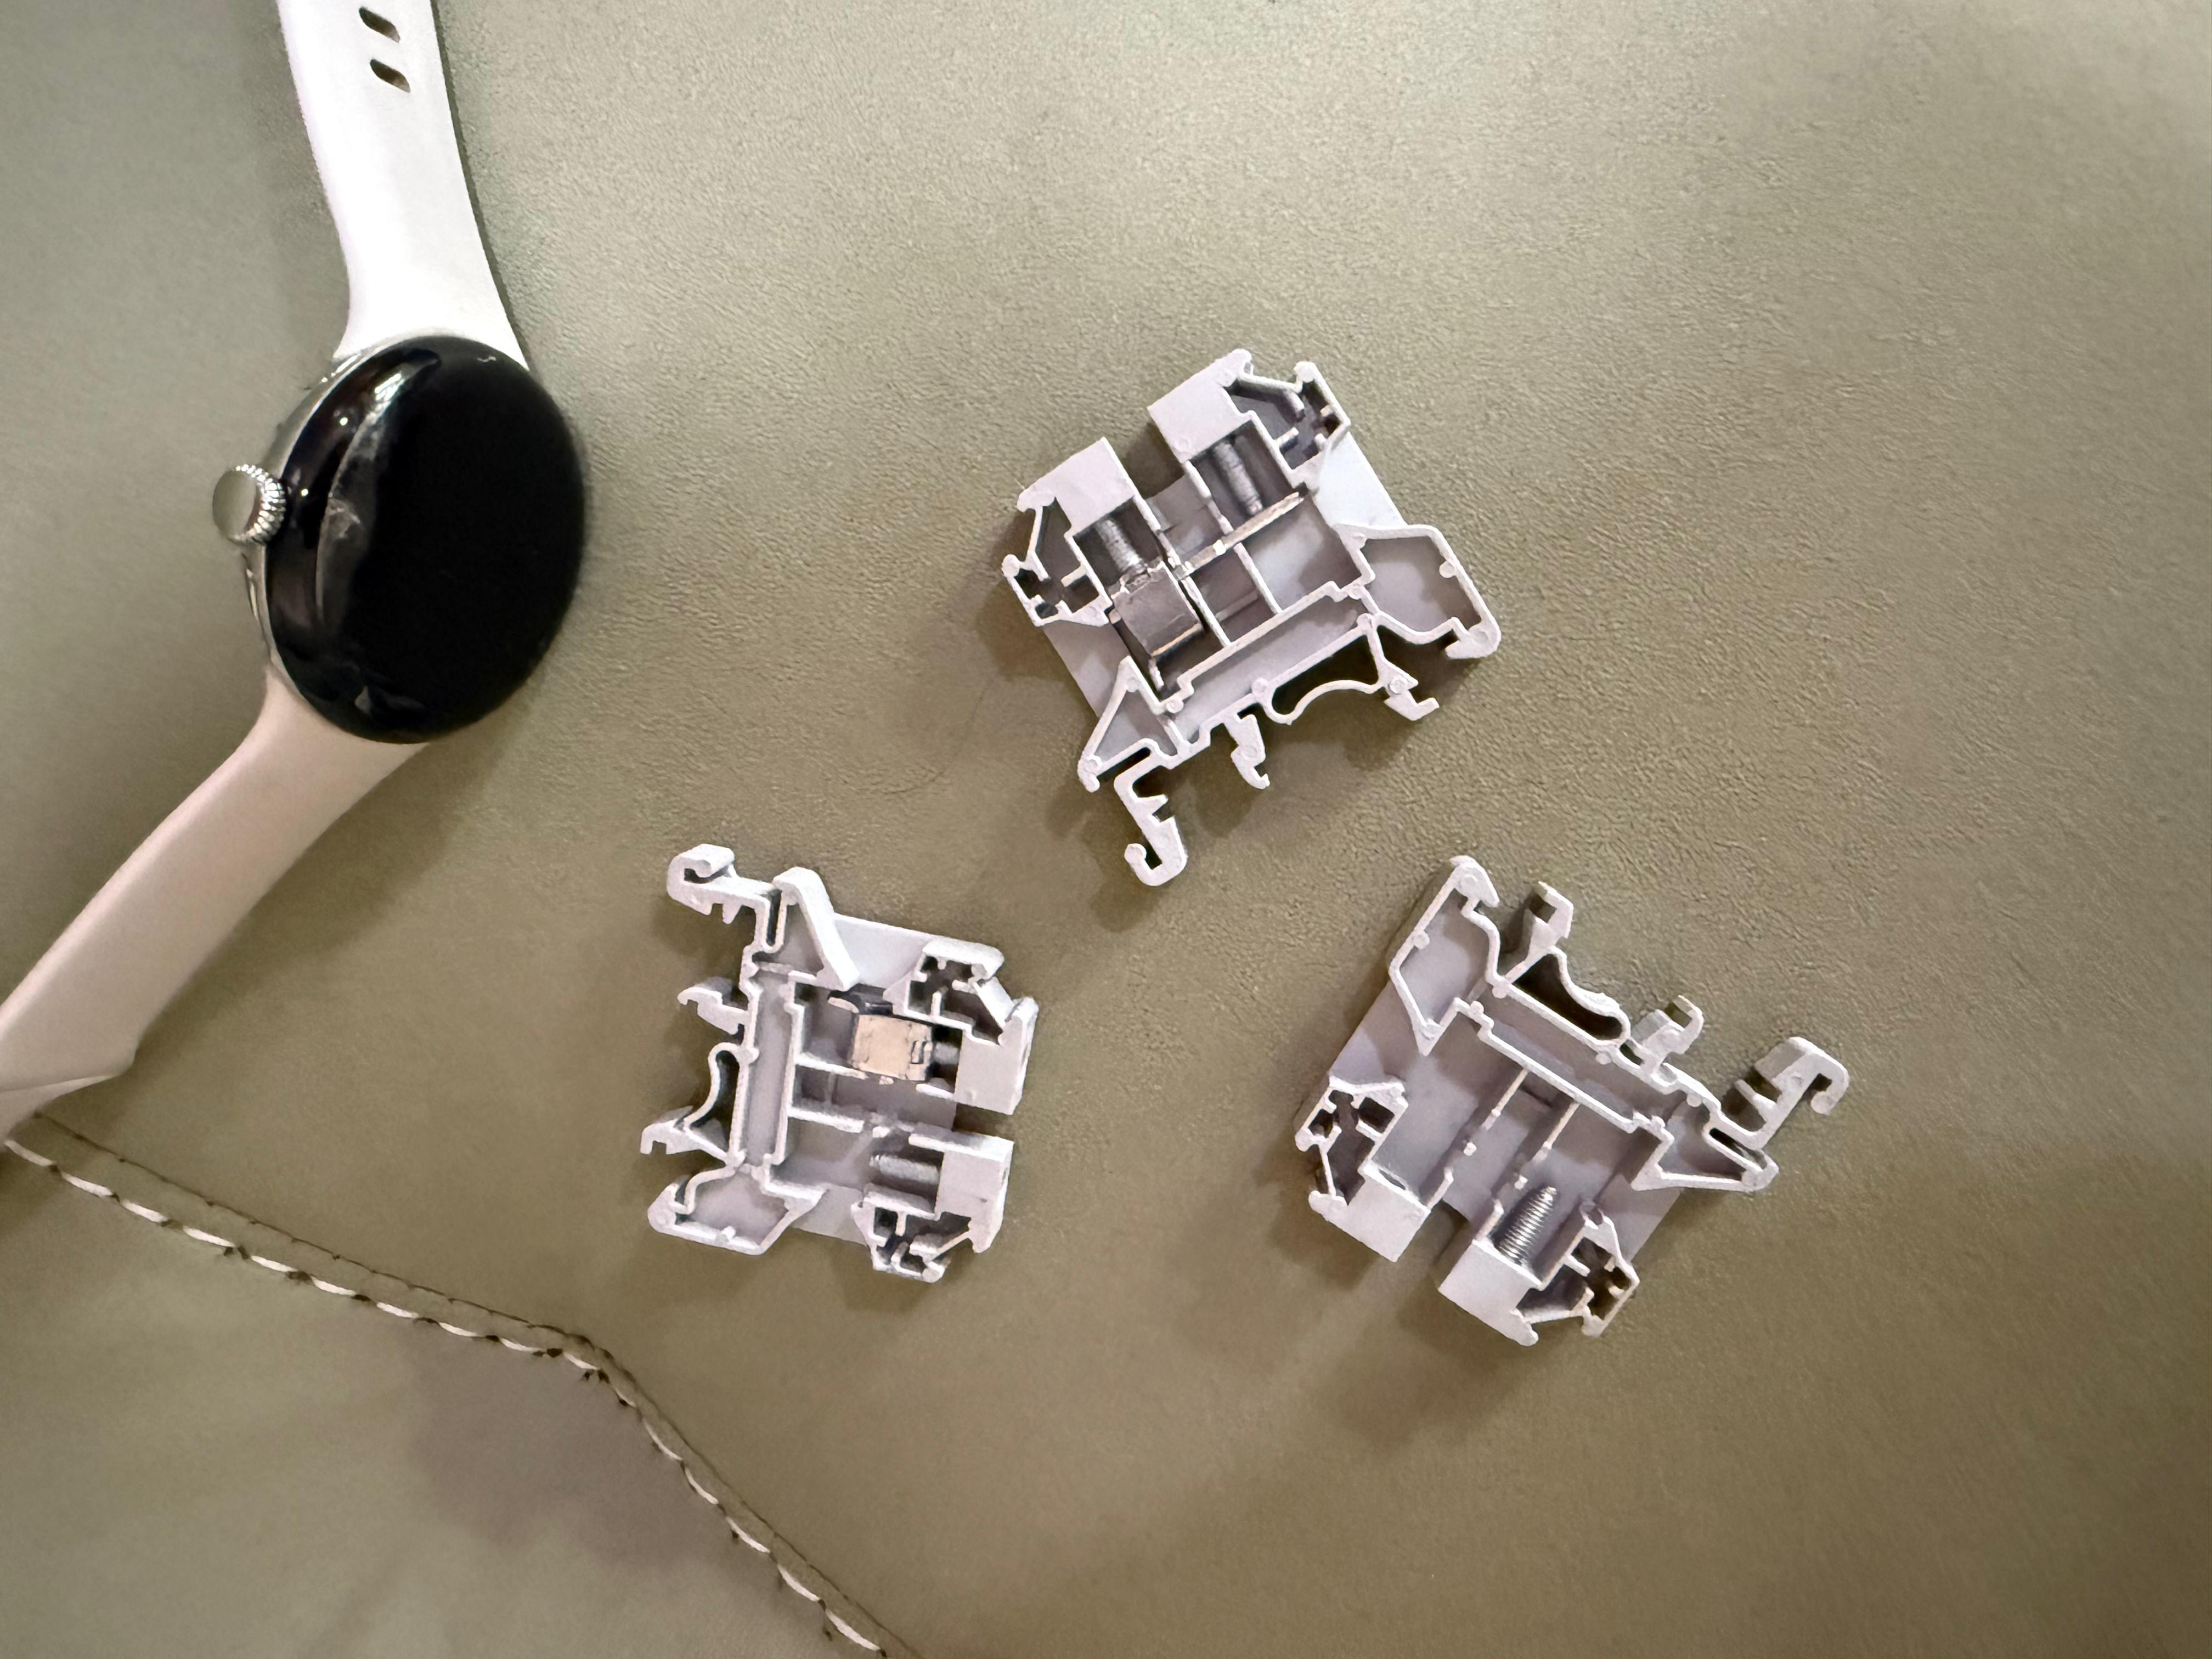Reject: (989, 345, 1508, 880), (1291, 859, 1855, 1342), (643, 845, 1024, 1288)
